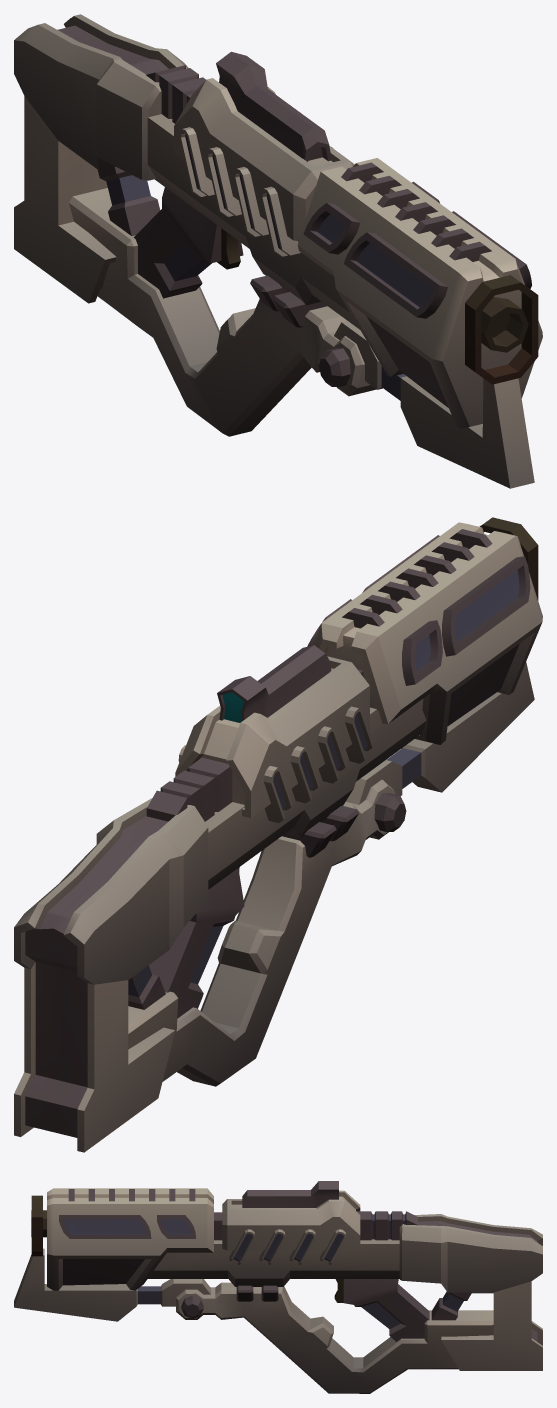
The model's file is Weap_01Final.fbx.
3 views of the same model, one above another, from view 1: azimuth 30°, elevation 25°; view 2: azimuth 150°, elevation 25°; view 3: azimuth 270°, elevation 25° (orthographic). The views are drawn at different scales.
Visible parts, largest first — view 1: Weapon_01; view 2: Weapon_01; view 3: Weapon_01.
Part boxes in pixels (left/top/right/bottom): Weapon_01: left=14, top=14, right=542, bottom=488; Weapon_01: left=14, top=517, right=542, bottom=1152; Weapon_01: left=14, top=1181, right=542, bottom=1393.
Size of the model in its own units: 6.81 by 21.52 by 49.23.
